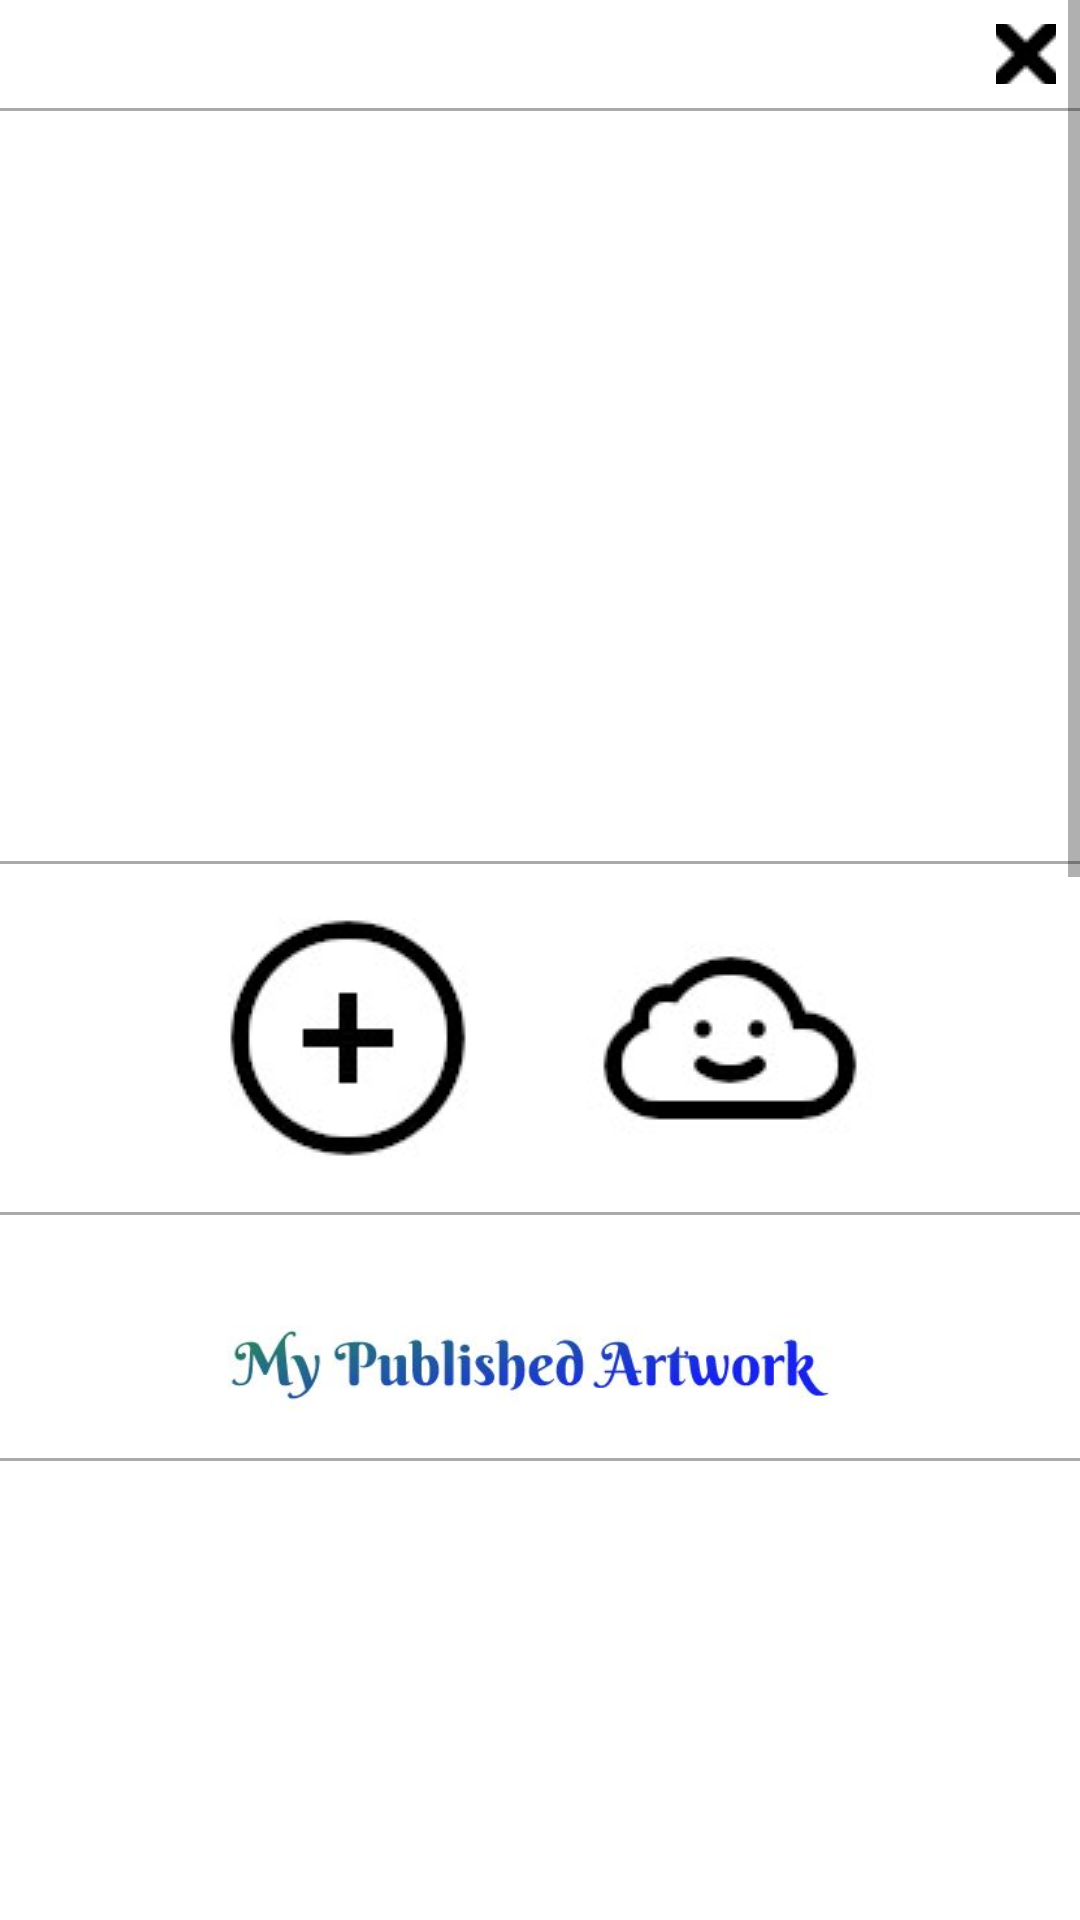

Where to tap for icons on this 1080*1920 app screen, as (x,y):
add: (348,1038)
exit: (1026,54)
